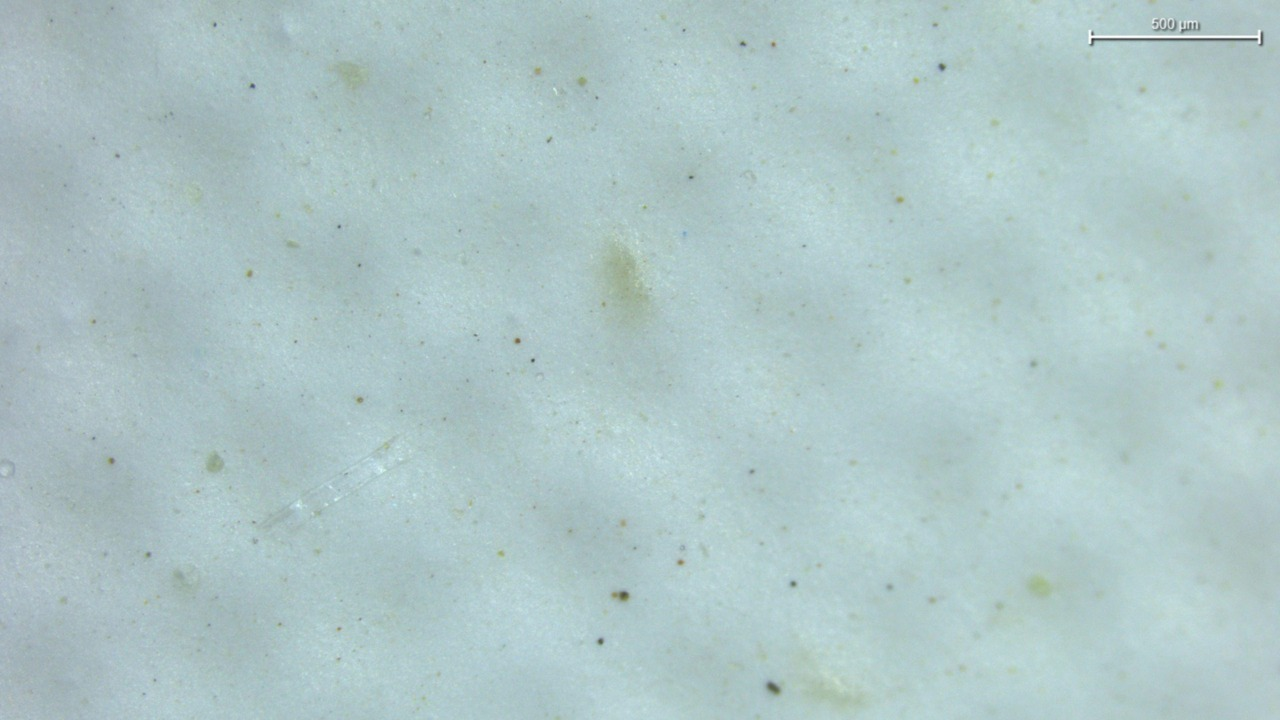microplastic_fragment: (271, 436, 410, 522)
